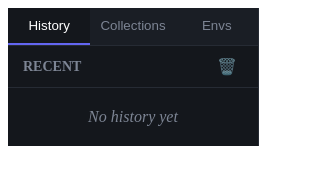
Test: Sidebar › Collections › should rename request in collection
The width and height of the screenshot is (320, 185).
Step 1. Click the button "Collections" → x=133, y=26, box [90,8,176,45]
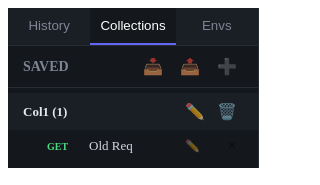
Step 2. Click the button titled "Rename Request" next to "Old Req" → x=192, y=146, box [179,138,206,154]
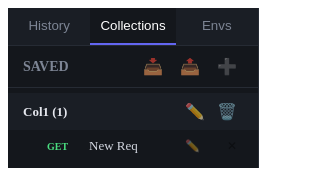
Now the text "New Req" is shown, box [89,138,138,153]
